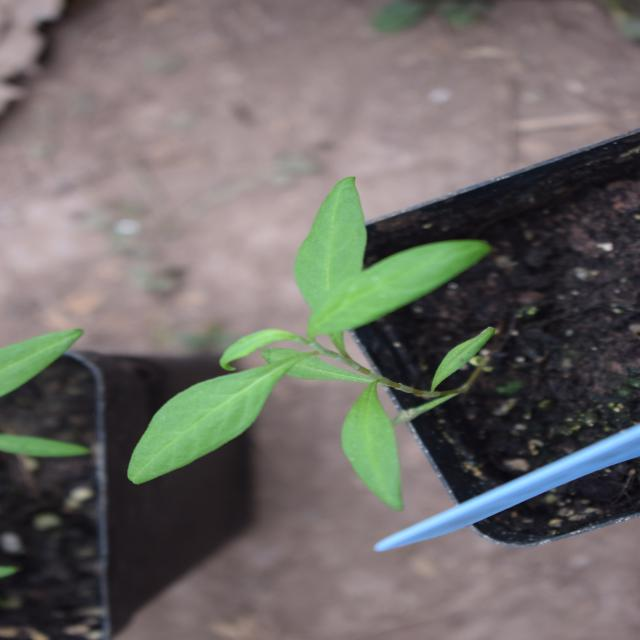white_smart_weed: (145, 108, 445, 518)
